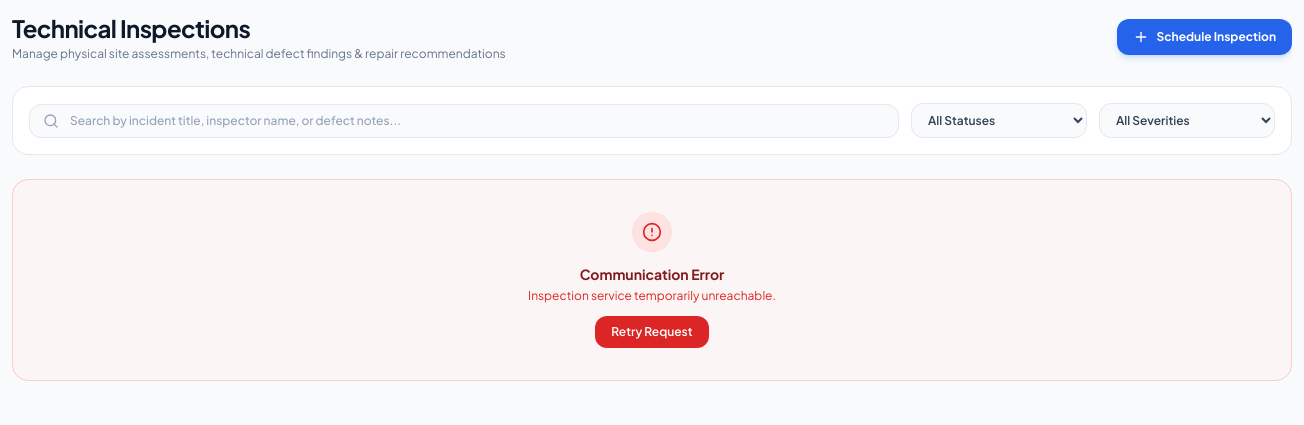
Test: InspectionListPage › displays error state and retries fetching inspection data on user request
The width and height of the screenshot is (1304, 425).
Expected: the text "Inspection service temporarily unreachable." is shown, 528,288 -> 776,304
Step 1. Click the button "Retry Request" → (652, 332), box 595,316 -> 709,348
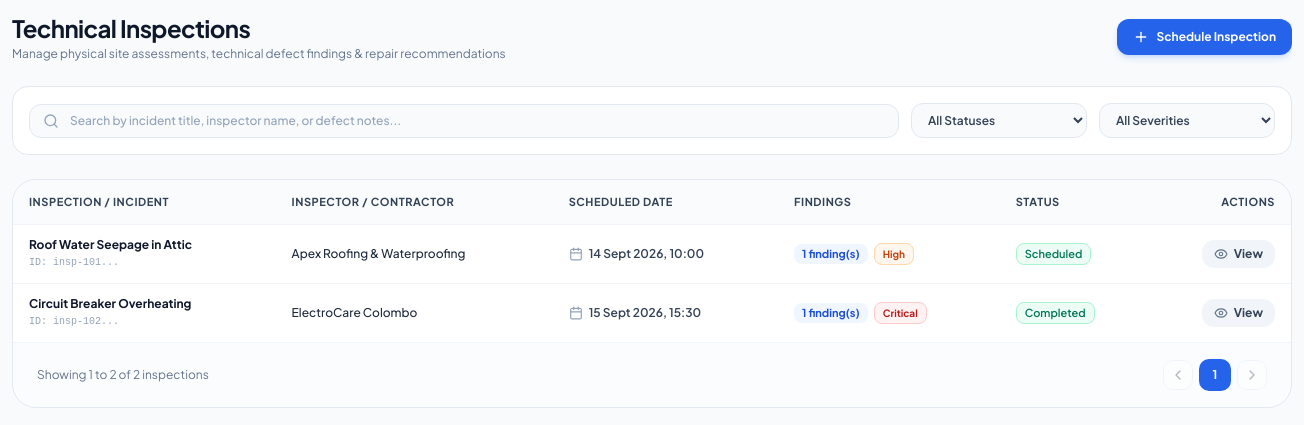
Result: the text "Roof Water Seepage in Attic" is shown at 29,237 -> 192,252
